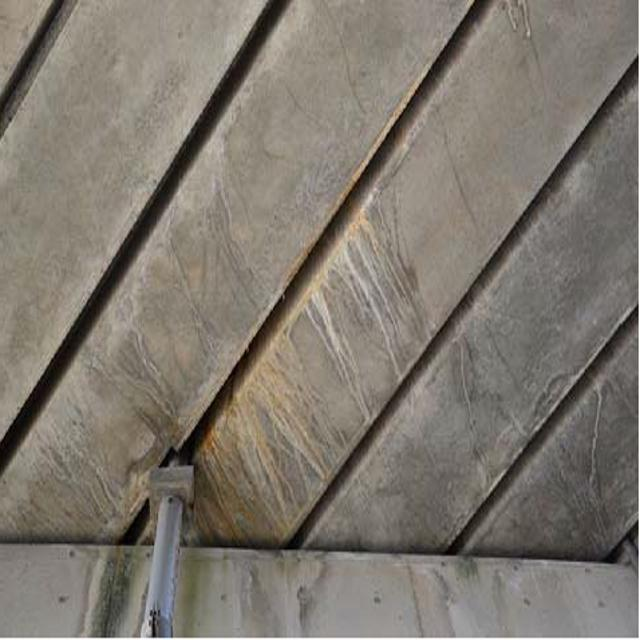freelime: (194, 313, 326, 533)
